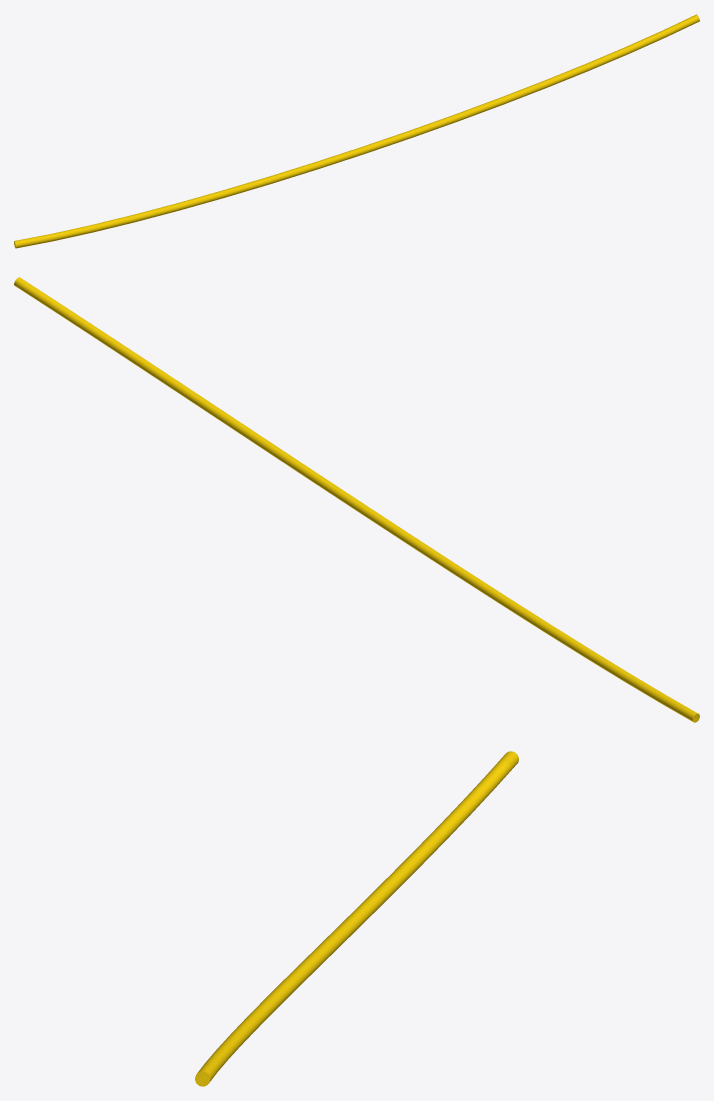
Rendered from Event_421364160_track_14.fbx.
3 views of the same model, one above another, from view 1: azimuth 30°, elevation 25°; view 2: azimuth 150°, elevation 25°; view 3: azimuth 270°, elevation 25° (orthographic). The views are drawn at different scales.
Parts seen in each view (by area): view 1: Model; view 2: Model; view 3: Model.
Boxes of the visible parts, box(x1,y1,x2,y2) form: Model: box(14, 14, 699, 248); Model: box(14, 277, 699, 722); Model: box(195, 751, 518, 1086).
Bounding box in the file's own units: 3.63 × 0.8118 × 0.837.
